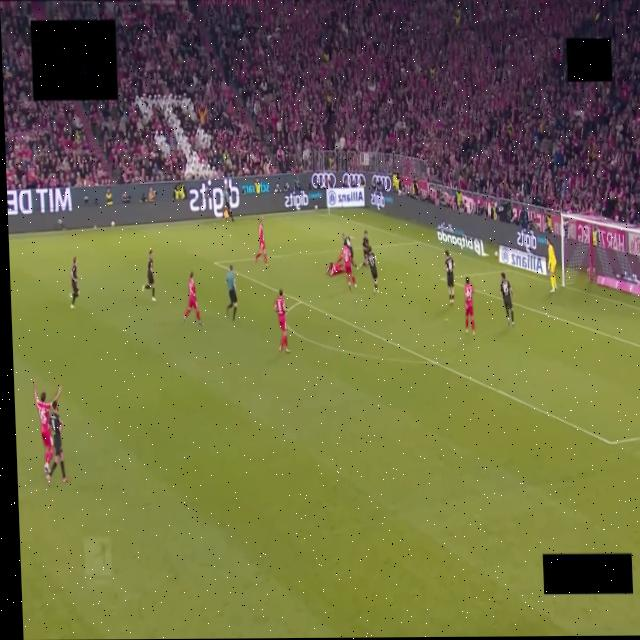player: (46, 400, 68, 484), (33, 381, 52, 473), (183, 272, 202, 326), (274, 289, 288, 352), (337, 244, 356, 290), (500, 272, 513, 326), (142, 251, 155, 301), (254, 217, 267, 266), (464, 277, 474, 335), (366, 246, 378, 292), (444, 250, 454, 304), (547, 240, 556, 292), (357, 230, 369, 267), (70, 257, 78, 309), (342, 234, 353, 260), (326, 262, 343, 277)
referee: (225, 265, 236, 320)
